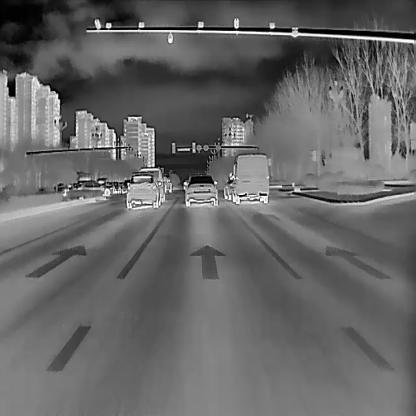car: (228, 151, 271, 203), (125, 173, 162, 208), (182, 172, 218, 206), (74, 178, 111, 197), (222, 177, 234, 199), (162, 175, 173, 193)
